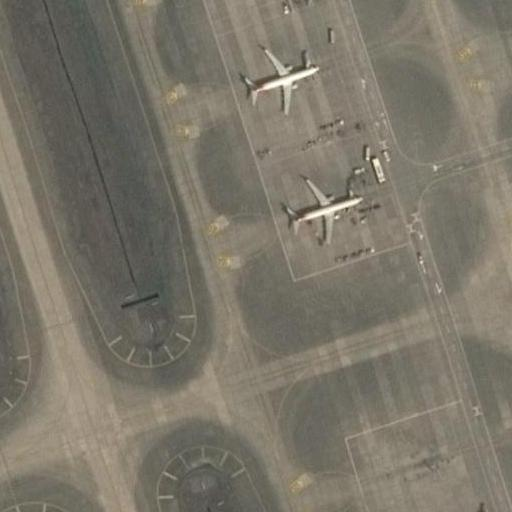Aircraft: (268, 157, 383, 243), (240, 48, 319, 107)
